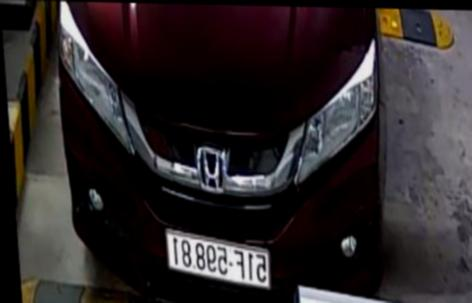License_Plate: (156, 225, 275, 290)
